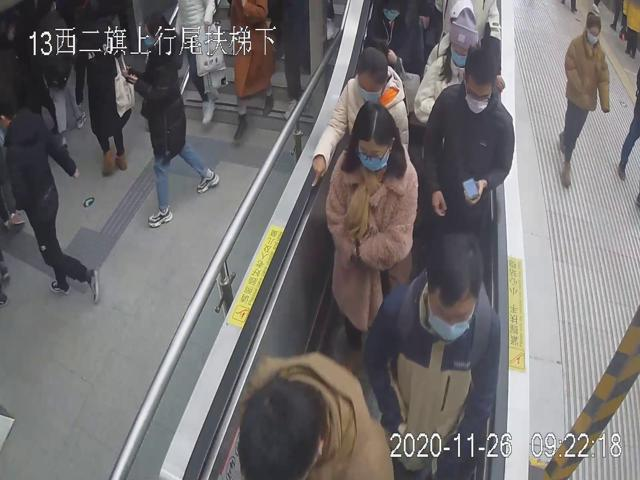person: (362, 231, 499, 480), (324, 101, 419, 364), (421, 42, 514, 241), (308, 36, 409, 189), (558, 0, 611, 190)
